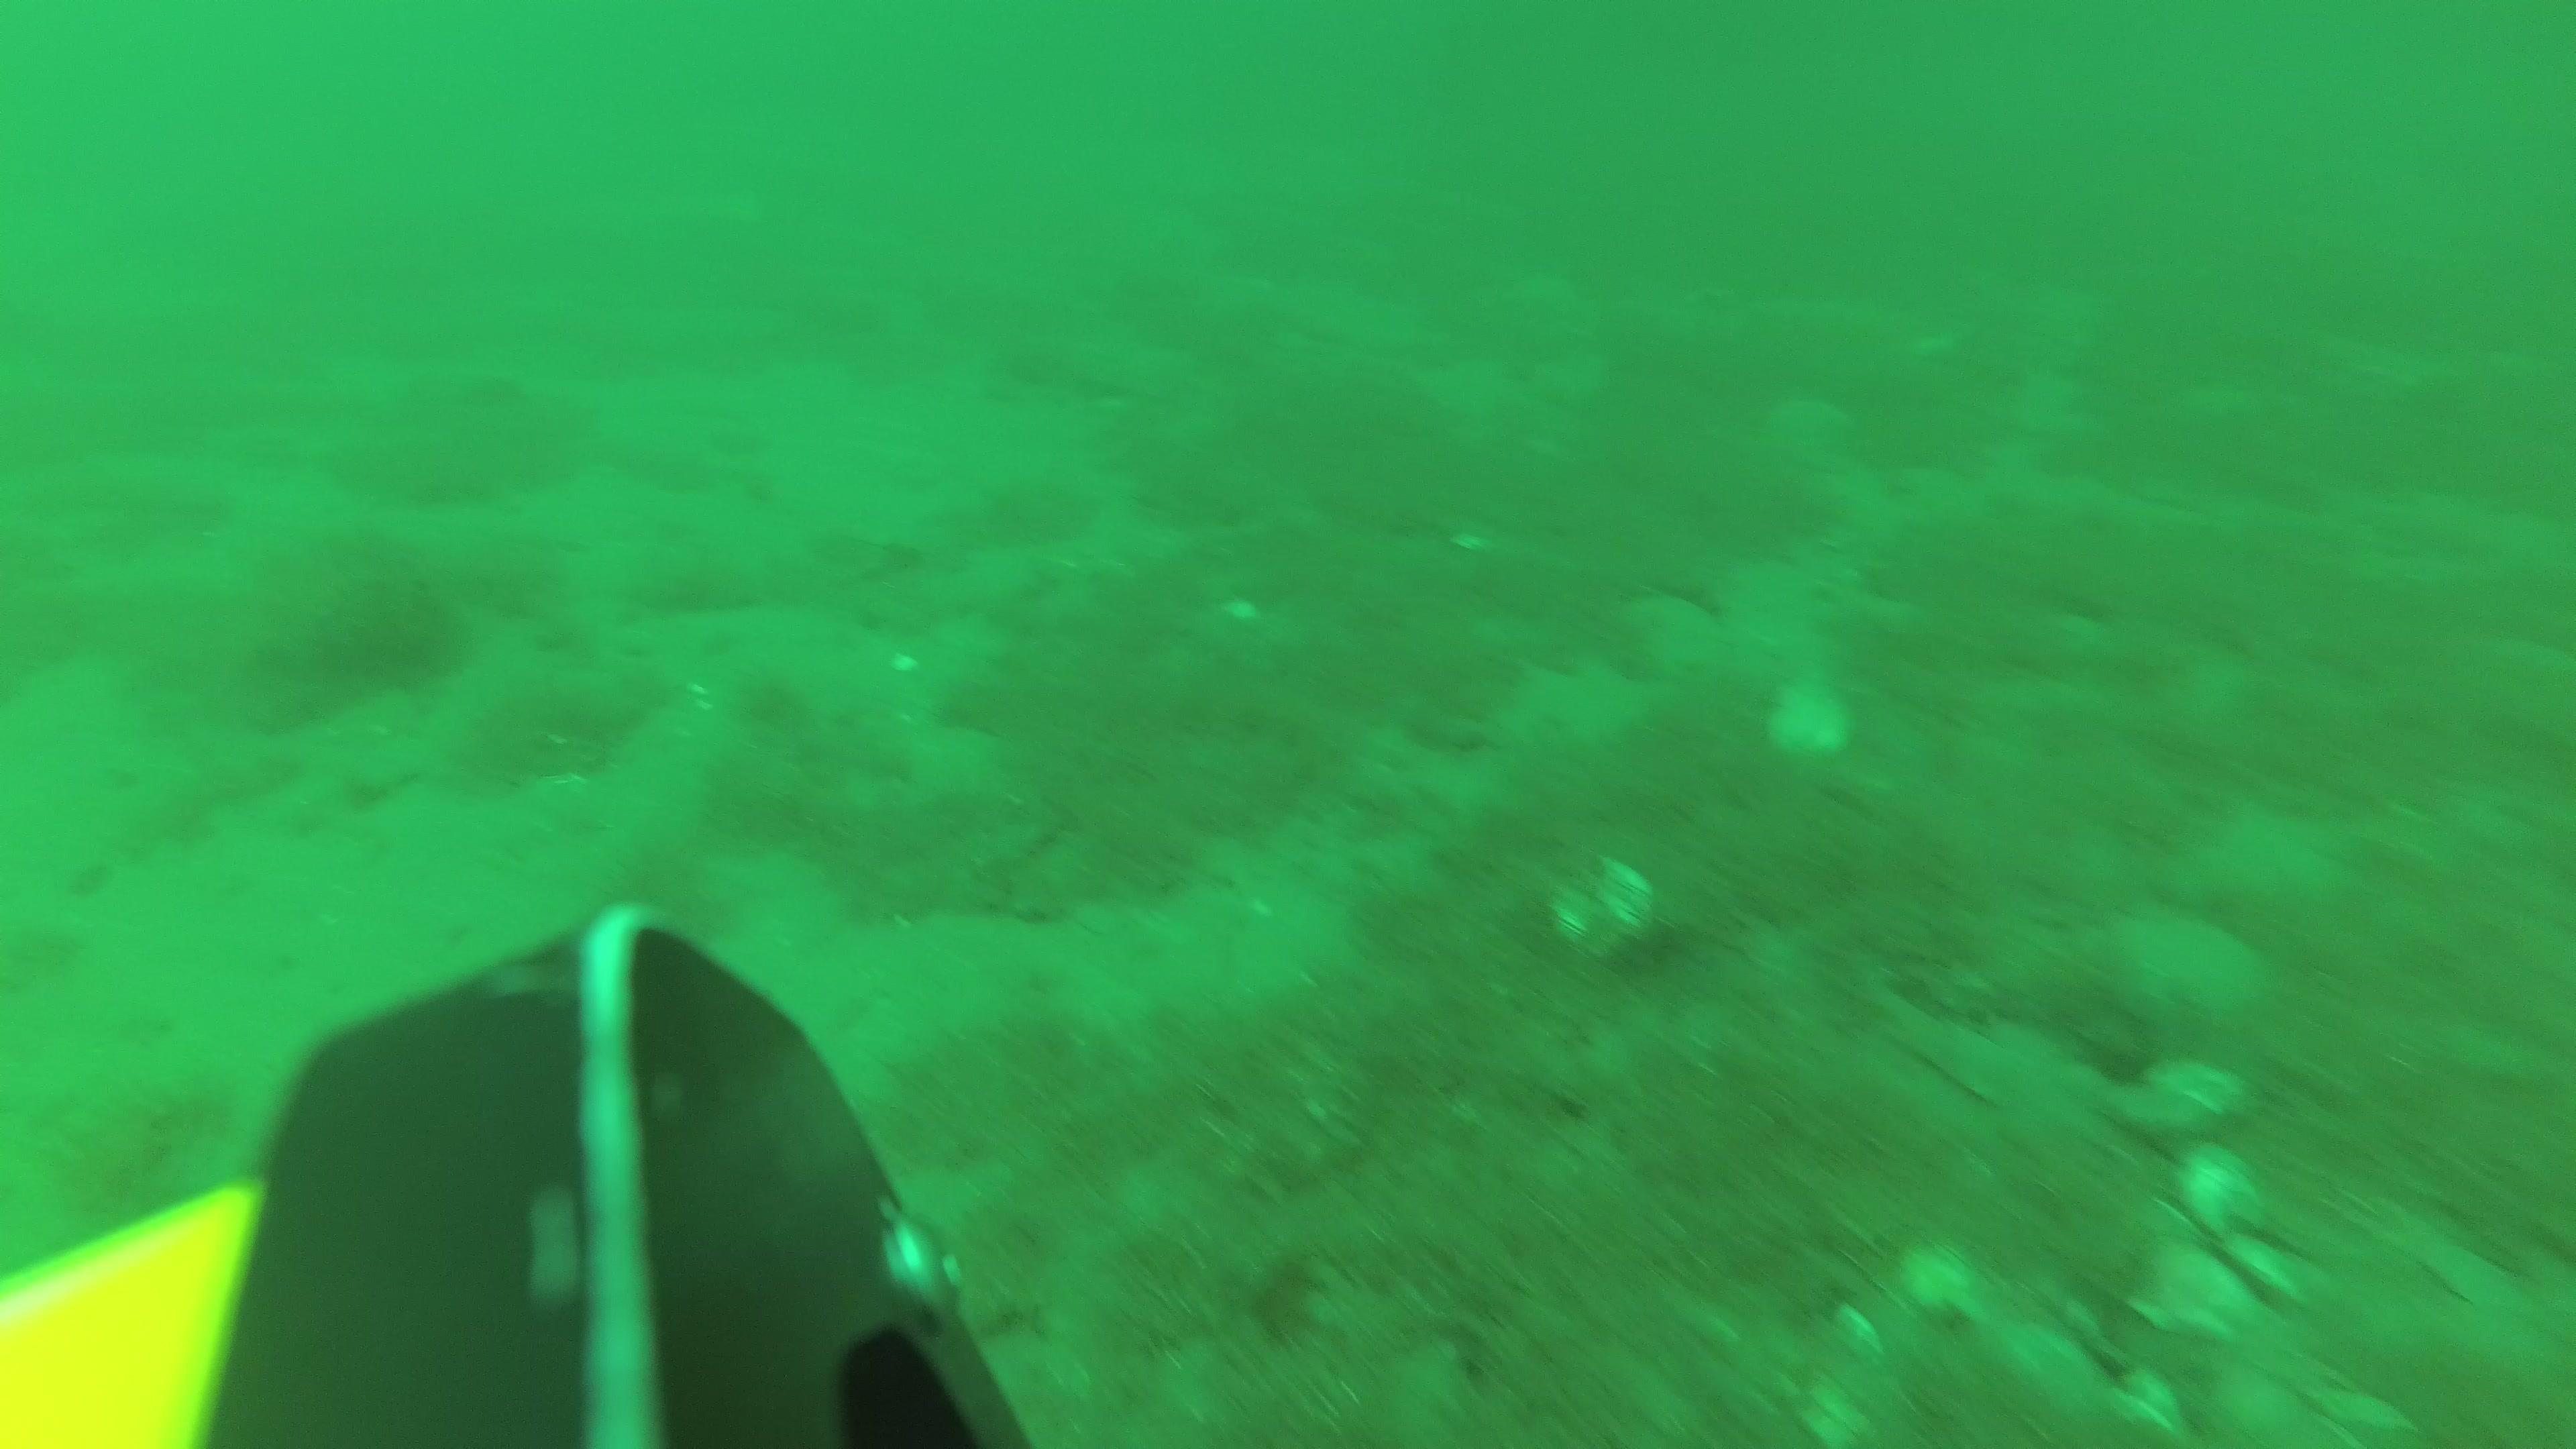scallop: (2125, 1240, 2247, 1339), (1552, 858, 1658, 954), (2180, 1146, 2272, 1253), (1762, 685, 1849, 764)
